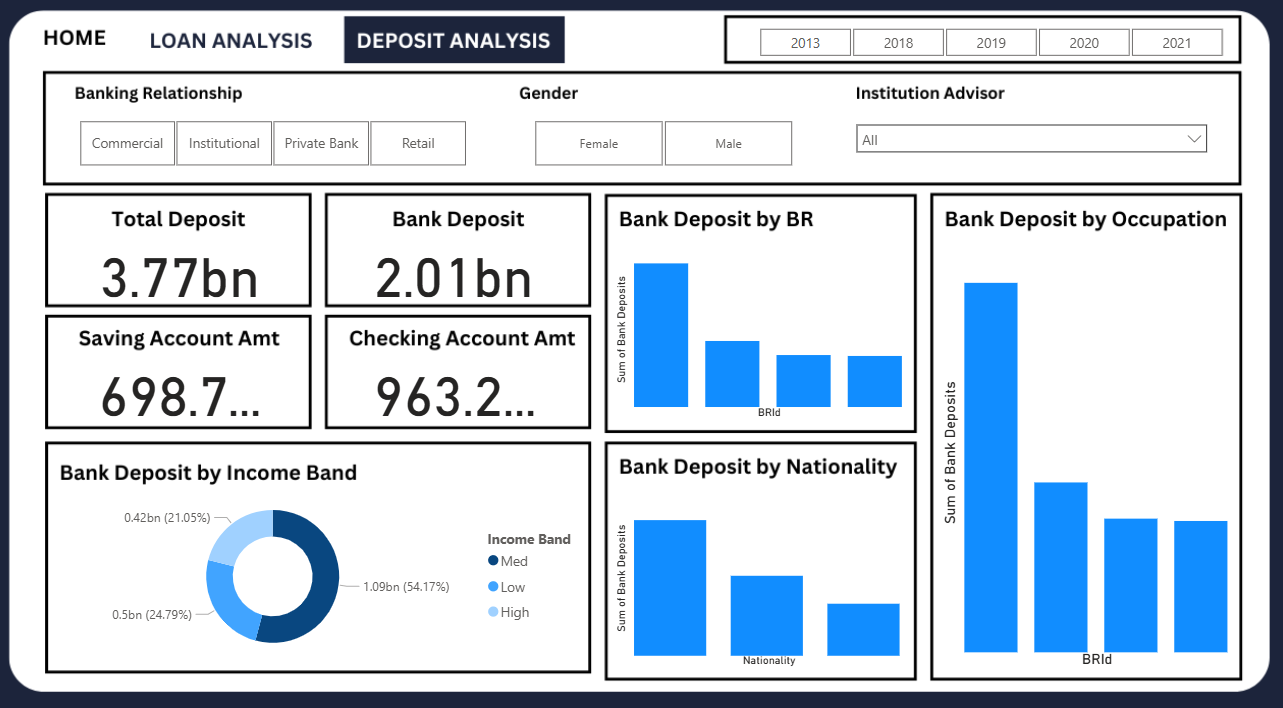

What the dashboard file says about the page in this screenshot:
{"tool":"powerbi","page":{"name":"Deposit Analysis","canvas":[1280,720],"ordinal":2},"visuals":[{"type":"slicer","fields":{"Values":["banking_case customer.Year of Joining"]},"box":[733.3,32.2,504.1,34.9],"z":0},{"type":"actionButton","box":[36.4,31.7,99.7,39.6],"z":1000},{"type":"actionButton","box":[348.2,31.7,221.6,39.6],"z":2000},{"type":"actionButton","box":[587.1,31.7,123.4,39.6],"z":3000},{"type":"card","fields":{"Values":["banking_case customer.Total Deposit"]},"box":[100.9,243.7,179.5,65.5],"z":4000},{"type":"card","fields":{"Values":["Sum(banking_case customer.Bank Deposits)"]},"box":[369.5,243.7,179.5,65.5],"z":5000},{"type":"card","fields":{"Values":["Sum(banking_case customer.Saving Accounts)"]},"box":[100.9,360.4,179.5,65.5],"z":6000},{"type":"card","fields":{"Values":["Sum(banking_case customer.Checking Accounts)"]},"box":[370.8,360.4,179.5,65.5],"z":7000},{"type":"donutChart","fields":{"Category":["banking_case customer.Income Band"],"Y":["Sum(banking_case customer.Bank Deposits)"]},"box":[66.8,488.8,530.7,176.9],"z":8000},{"type":"clusteredColumnChart","fields":{"Category":["banking_case customer.BRId"],"Y":["Sum(banking_case customer.Bank Deposits)"]},"box":[613.3,243.7,293.5,182.1],"z":9000},{"type":"clusteredColumnChart","fields":{"Category":["banking_case customer.Nationality"],"Y":["Sum(banking_case customer.Bank Deposits)"]},"box":[613.3,488.8,293.5,182.1],"z":10000},{"type":"slicer","fields":{"Values":["banking_case customer.BRId"]},"box":[66.8,123.2,428.5,57.7],"z":11000},{"type":"slicer","fields":{"Values":["banking_case customer.GenderId"]},"box":[512.4,123.2,302.7,57.7],"z":12000},{"type":"slicer","fields":{"Values":["banking_case customer.IAId"]},"box":[843.9,123.2,364.3,57.7],"z":13000},{"type":"clusteredColumnChart","fields":{"Category":["banking_case customer.BRId"],"Y":["Sum(banking_case customer.Bank Deposits)"]},"box":[933.7,245.3,292.8,425.7],"z":14000},{"type":"actionButton","box":[136.3,27.5,196.6,40.6],"z":15000},{"type":"shape","box":[577.9,24.5,142.3,50.3],"z":15001}]}

Visuals, with their boxes in screenshot pixels (x1, y1, x2, y2), scaled from the page's 1280x720 canvas onto the 1283x708 screenshot:
slicer - banking_case customer.Year of Joining: bbox=(735, 32, 1240, 66)
actionButton: bbox=(36, 31, 136, 70)
actionButton: bbox=(349, 31, 571, 70)
actionButton: bbox=(588, 31, 712, 70)
card - banking_case customer.Total Deposit: bbox=(101, 240, 281, 304)
card - Sum(banking_case customer.Bank Deposits): bbox=(370, 240, 550, 304)
card - Sum(banking_case customer.Saving Accounts): bbox=(101, 354, 281, 419)
card - Sum(banking_case customer.Checking Accounts): bbox=(372, 354, 552, 419)
donutChart - banking_case customer.Income Band x Sum(banking_case customer.Bank Deposits): bbox=(67, 481, 599, 655)
clusteredColumnChart - banking_case customer.BRId x Sum(banking_case customer.Bank Deposits): bbox=(615, 240, 909, 419)
clusteredColumnChart - banking_case customer.Nationality x Sum(banking_case customer.Bank Deposits): bbox=(615, 481, 909, 660)
slicer - banking_case customer.BRId: bbox=(67, 121, 496, 178)
slicer - banking_case customer.GenderId: bbox=(514, 121, 817, 178)
slicer - banking_case customer.IAId: bbox=(846, 121, 1211, 178)
clusteredColumnChart - banking_case customer.BRId x Sum(banking_case customer.Bank Deposits): bbox=(936, 241, 1229, 660)
actionButton: bbox=(137, 27, 334, 67)
shape: bbox=(579, 24, 722, 74)
